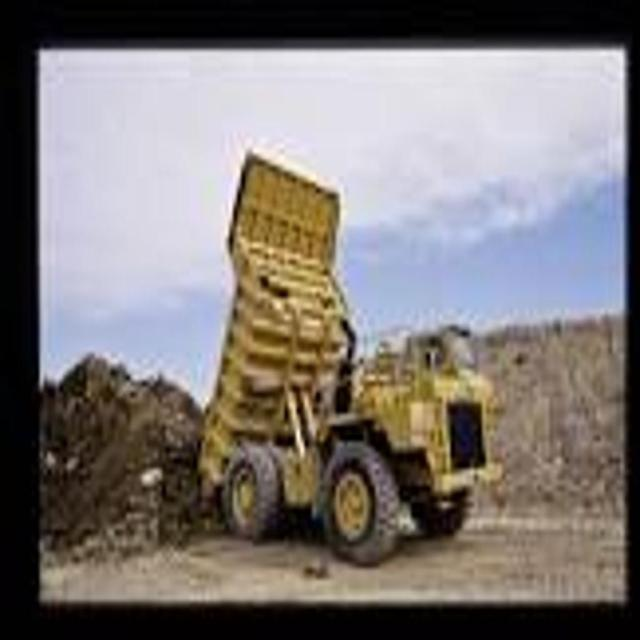dump_truck: (204, 134, 502, 565)
